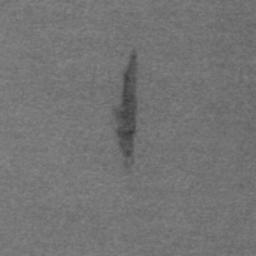Iron scale compression: (117, 48, 138, 162)
